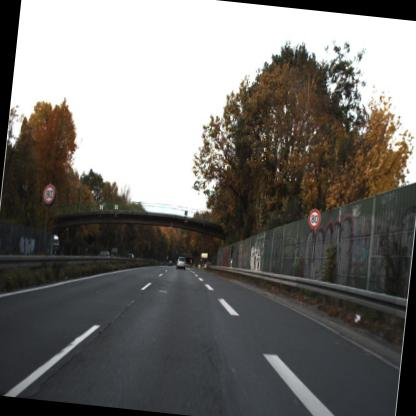prohibitory: (37, 174, 62, 214), (301, 203, 326, 234)
